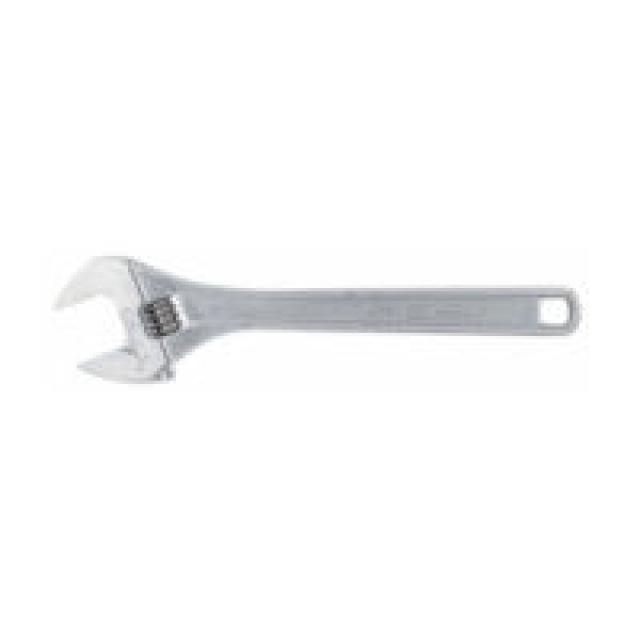wrench: (41, 216, 598, 436)
